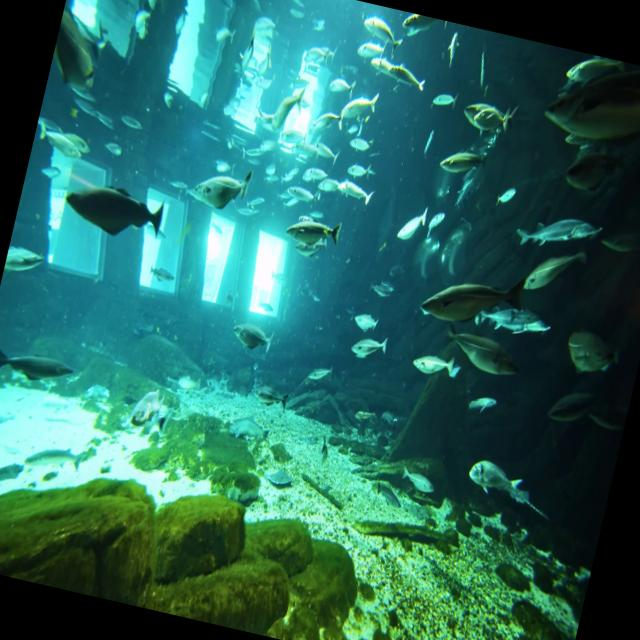fish: (535, 46, 640, 175), (412, 241, 530, 344), (51, 163, 174, 257), (501, 182, 617, 268), (455, 443, 563, 524), (555, 111, 640, 211), (516, 226, 602, 314), (46, 0, 122, 98), (175, 148, 258, 228), (468, 289, 558, 357), (0, 333, 83, 398), (278, 205, 356, 269), (214, 304, 280, 371), (559, 316, 629, 376), (246, 78, 307, 146), (456, 85, 518, 149), (384, 186, 434, 256), (338, 319, 394, 380), (539, 378, 592, 441), (354, 6, 406, 61), (406, 340, 462, 390), (0, 237, 48, 294), (432, 144, 492, 186), (381, 54, 429, 101), (328, 174, 379, 216), (334, 85, 381, 128), (438, 22, 475, 76), (460, 376, 500, 423), (396, 11, 442, 44), (351, 298, 385, 341)
